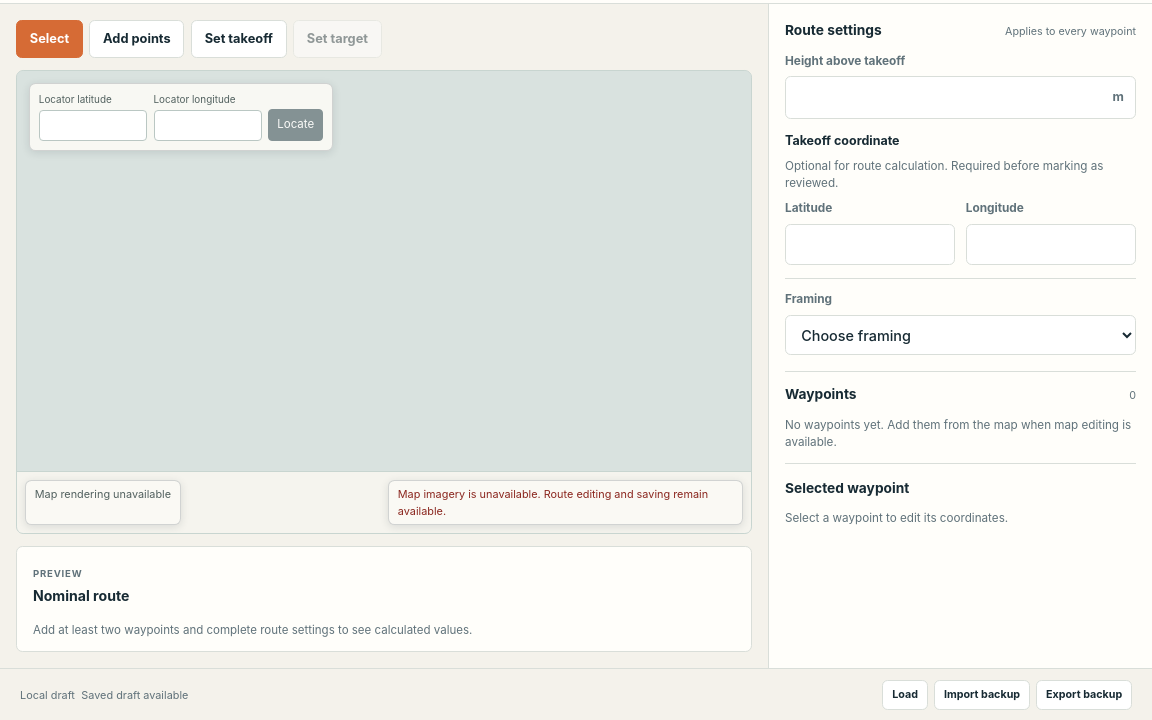
Test: editor shell actions › does not restore a reviewed mark from a draft that is not eligible for review
The width and height of the screenshot is (1152, 720).
(page scrolled)
Expected: the message named "Draft storage status" reads "Saved draft available", [81,688,188,702]
What coordinates should you click on to do the following:
click the button "Load"
I would click on:
 (905, 695)
Its box is [882,680,928,710].
(page scrolled)
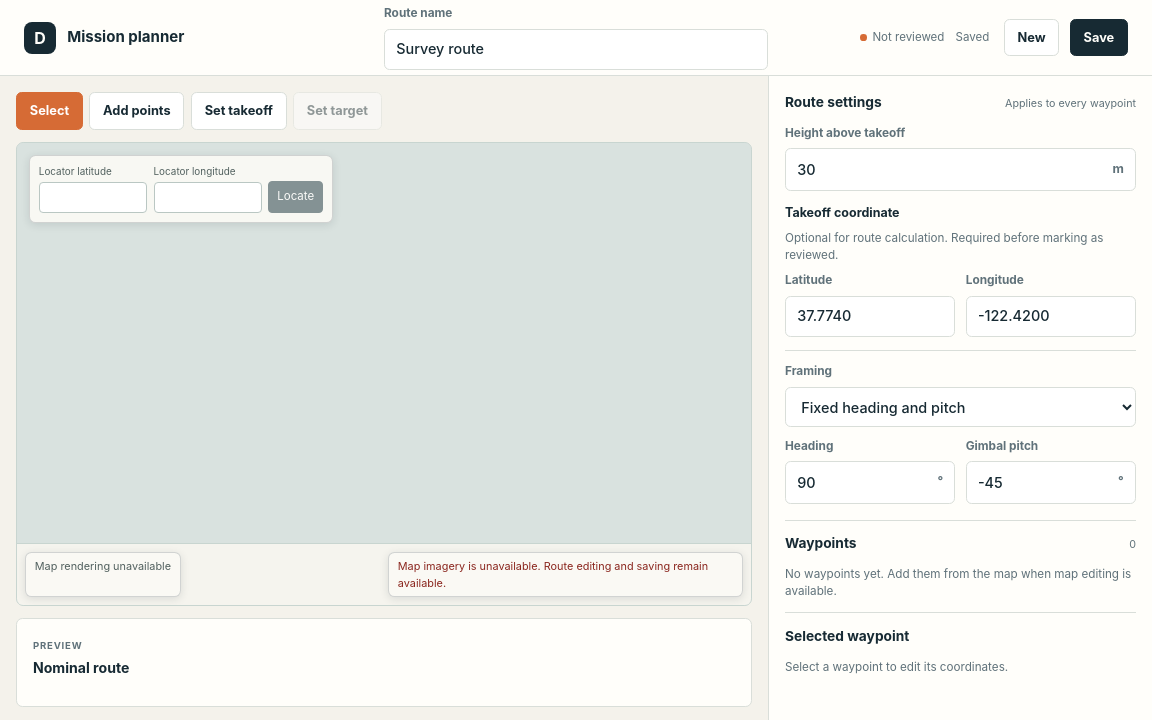
Expected: the message named "Review status" reads "Not reviewed", [872,30,944,44]
Result: the field labelled "Route name" holds "Survey route" at [384,29,768,70]
Result: the message named "Save status" reads "Saved" at [956,30,989,44]
